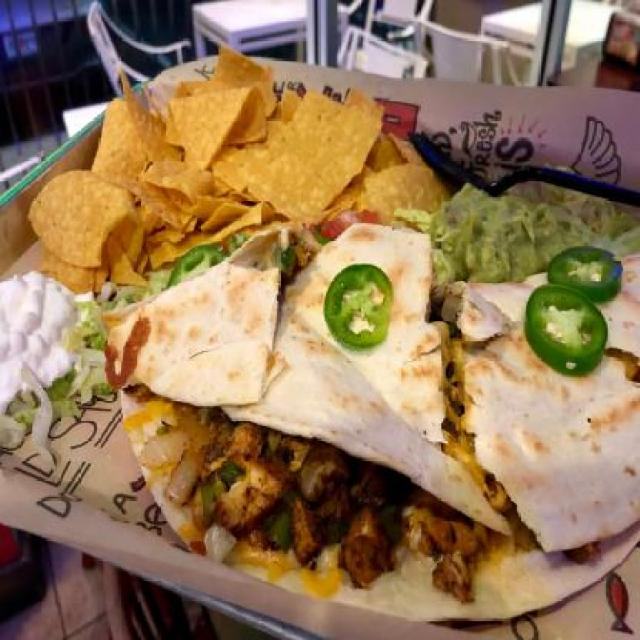chicken quesadilla: (97, 214, 638, 632)
guacamole: (397, 162, 640, 280)
nachos: (28, 40, 444, 282)
